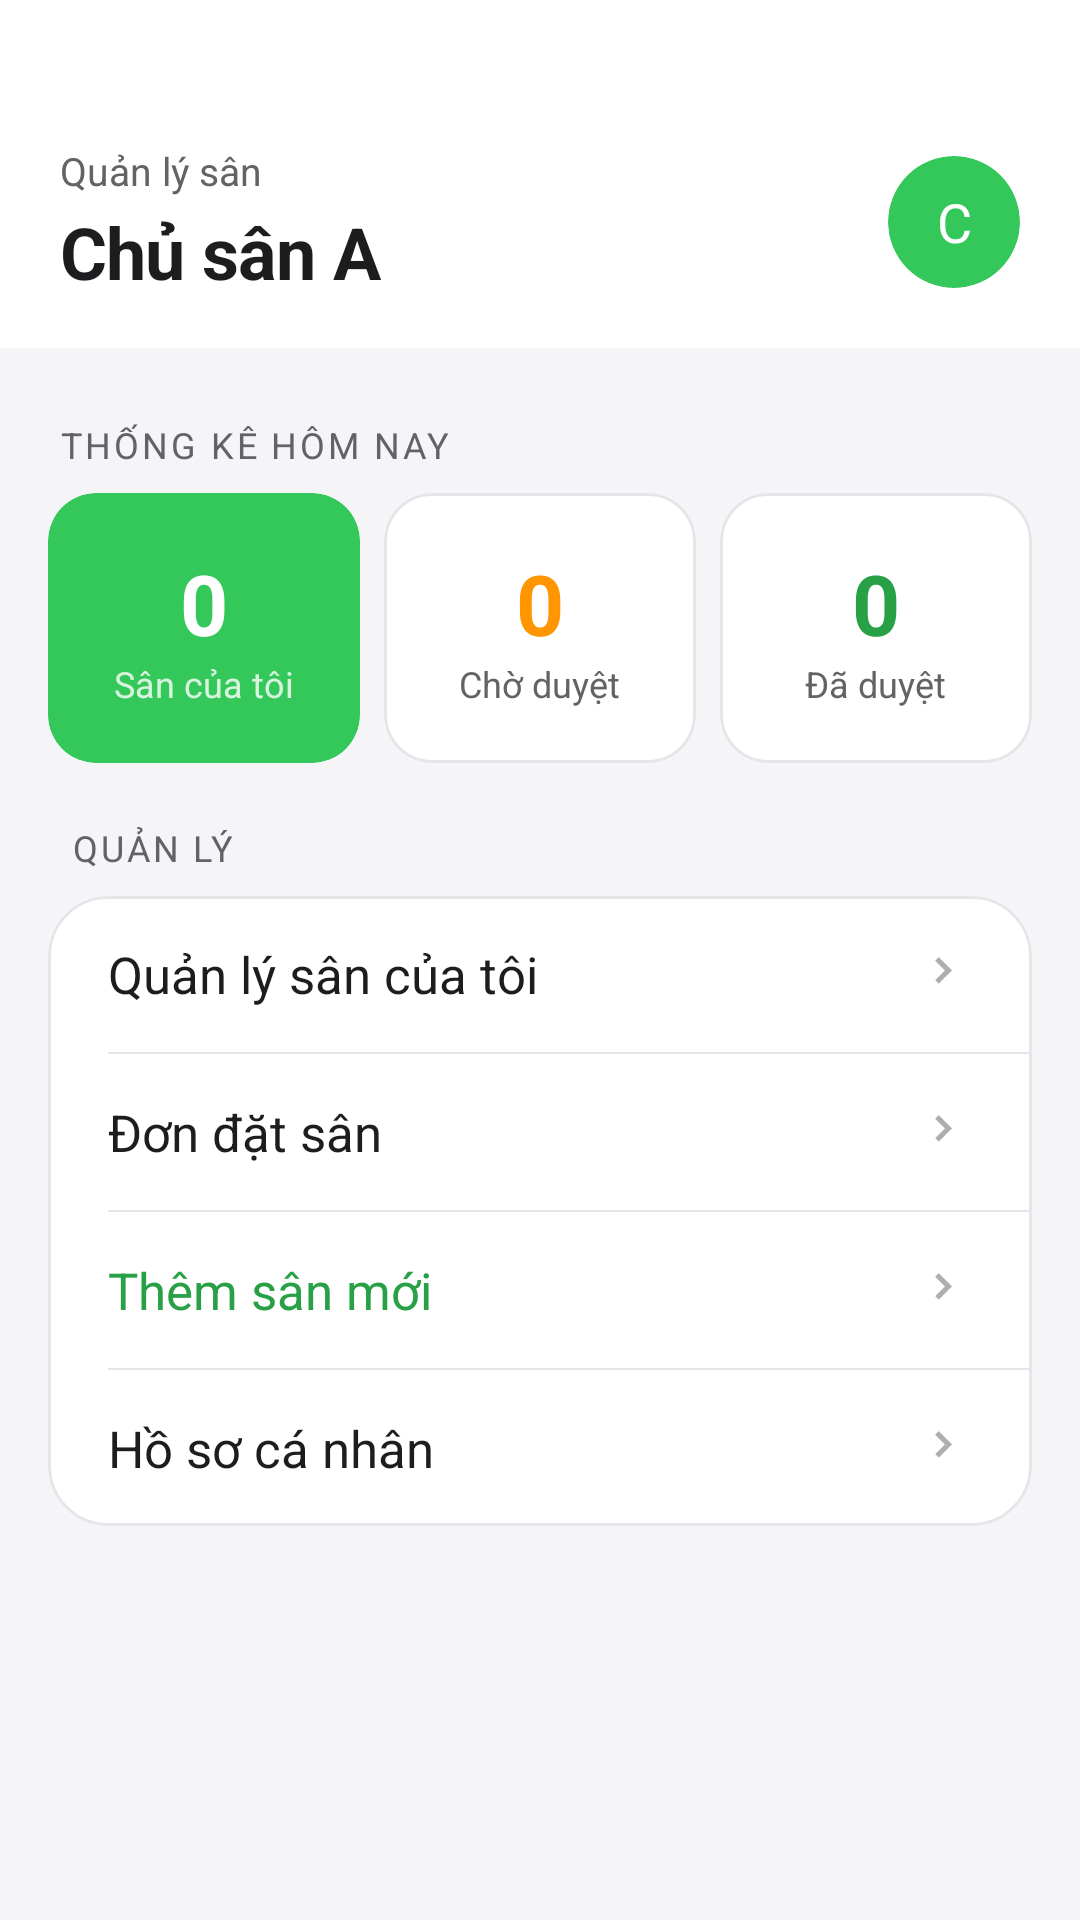

Named icons in this screenshot (1080x1920) and their centers, point (x, y):
chevron right: point (943, 970), point (943, 1128), point (943, 1286), point (943, 1444)
